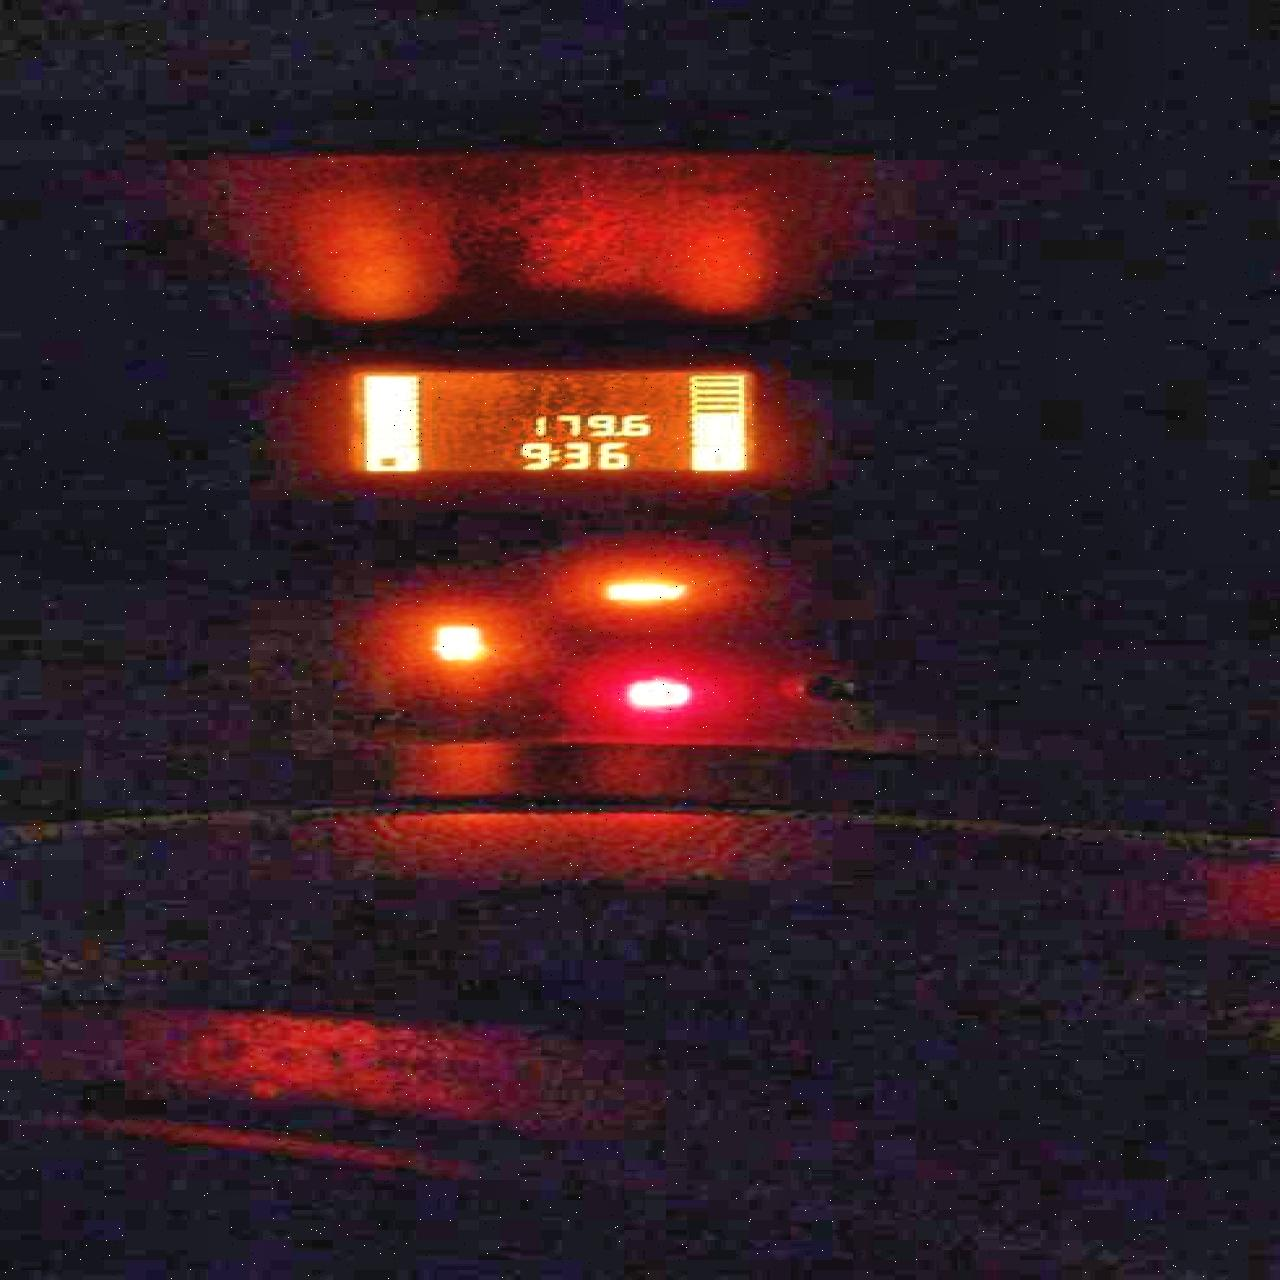-: (611, 430, 621, 435)
1: (531, 414, 546, 436)
3: (559, 441, 587, 469)
6: (593, 440, 627, 469), (620, 414, 651, 436)
7: (552, 414, 580, 436)
9: (515, 441, 549, 470), (583, 414, 614, 436)
X: (546, 448, 559, 462)
odometer: (339, 366, 755, 474)
